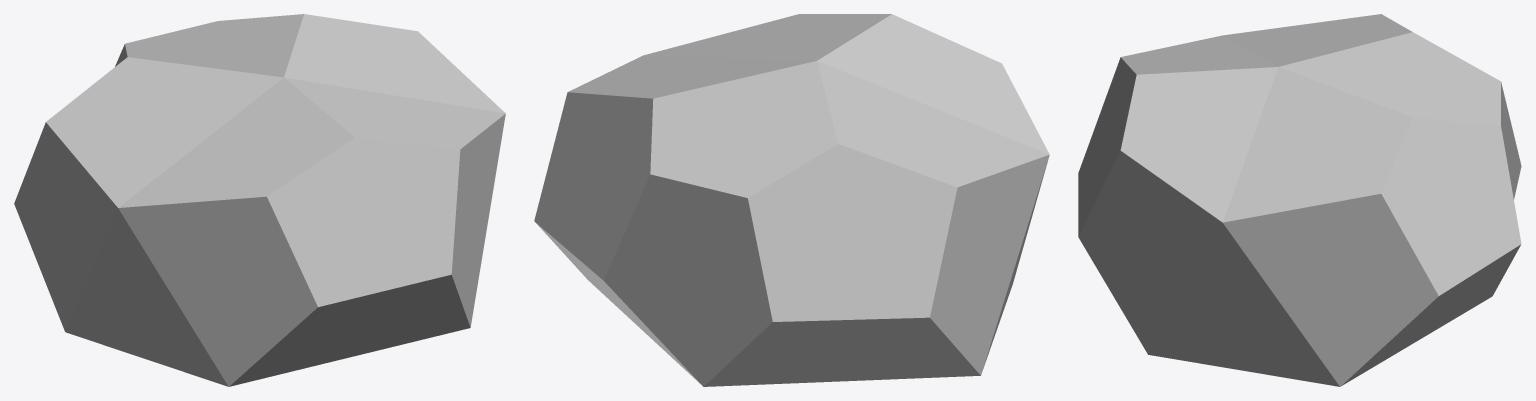
Rendered from Trash.fbx.
The picture shows the model from 3 angles, left to right: view 1: azimuth 30°, elevation 25°; view 2: azimuth 150°, elevation 25°; view 3: azimuth 270°, elevation 25°; orthographic projection. The views are drawn at different scales.
Visible parts, largest first — view 1: Trash; view 2: Trash; view 3: Trash.
Part boxes in pixels (x1=…): Trash: x1=14, y1=14, x2=505, y2=386; Trash: x1=534, y1=14, x2=1049, y2=386; Trash: x1=1078, y1=14, x2=1521, y2=386.
Bounding box in the file's own units: 0.35 × 0.2 × 0.35.
